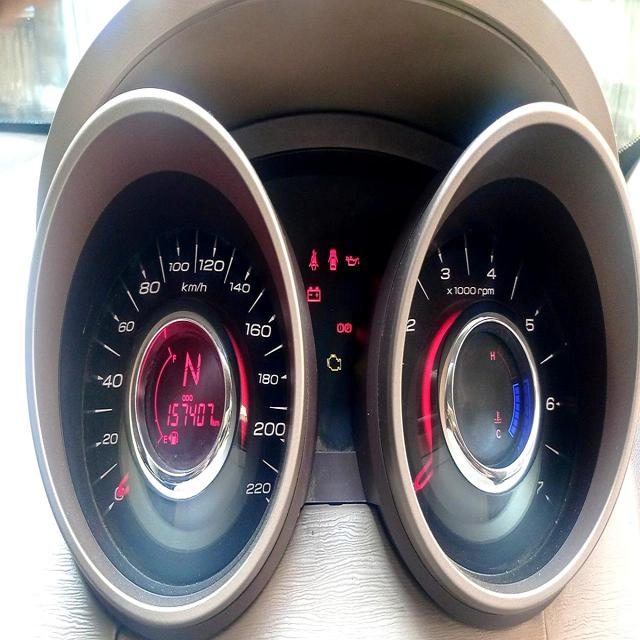odometer: (163, 398, 216, 434)
